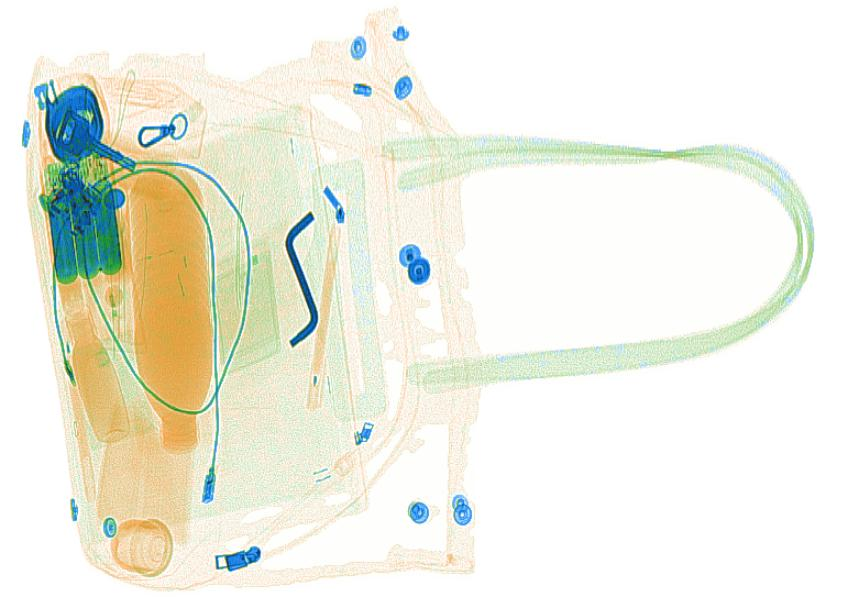battery: (37, 142, 128, 289)
